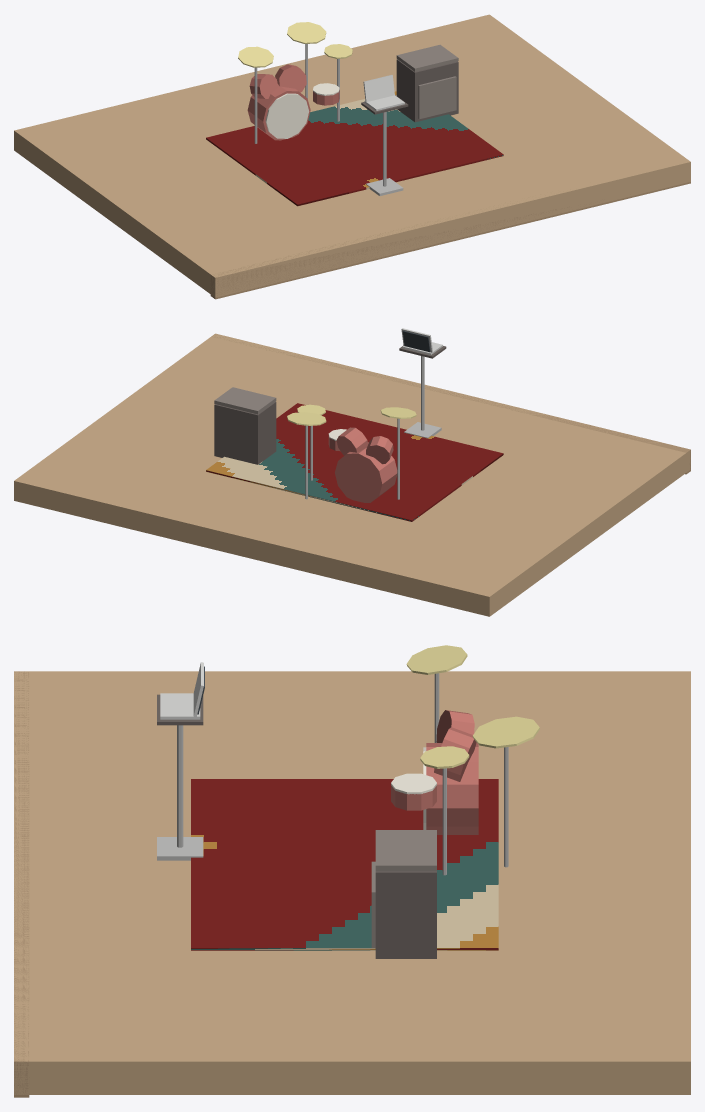
The model's file is stage.glb.
3 views of the same model, one above another, from view 1: azimuth 30°, elevation 25°; view 2: azimuth 150°, elevation 25°; view 3: azimuth 270°, elevation 25° (orthographic). The views are drawn at different scales.
Visible parts, largest first — view 1: StageFloor, Rug, StageLip, AmpBody, KickHead, AmpGrill, AmpTop, Kick, Ride, LapLid, Tom2, Crash (+1 smaller); view 2: StageFloor, Rug, AmpBody, Kick, StageLip, AmpTop, Tom2, Tom1, Ride; view 3: StageFloor, Rug, AmpBody, StageLip, Kick, AmpTop, Ride, Crash, LapFeet, LapBase, Tom2, HiHat (+4 smaller).
Boxes of the visible parts, x1,y1,x2,y2 form: StageFloor: (14,14,690,297); Rug: (206,91,503,206); StageLip: (210,182,690,299); AmpBody: (396,59,458,122); KickHead: (265,93,309,138); AmpGrill: (418,76,456,119); AmpTop: (396,44,458,71); Kick: (247,84,310,140); Ride: (287,22,326,43); LapLid: (363,75,394,102); Tom2: (275,64,306,92); Crash: (238,46,273,67); StageFloor: (14,333,690,616); Rug: (206,403,503,521); AmpBody: (214,401,276,464); Kick: (335,442,397,502); StageLip: (211,334,690,474); AmpTop: (214,387,276,414); Tom2: (336,427,368,455); Tom1: (366,436,393,464); Ride: (287,412,326,425); StageFloor: (14,671,690,1094); Rug: (191,779,498,950); AmpBody: (375,871,436,958); StageLip: (14,671,29,1097); Kick: (426,743,478,834); AmpTop: (375,830,436,871); Ride: (472,716,539,748); Crash: (406,645,467,674); LapFeet: (157,837,203,860); LapBase: (160,693,200,719); Tom2: (434,727,476,781); HiHat: (420,746,469,768).
Size of the model in its own units: 6 by 1.53 by 4.4.
11 materials, 1 textured.
